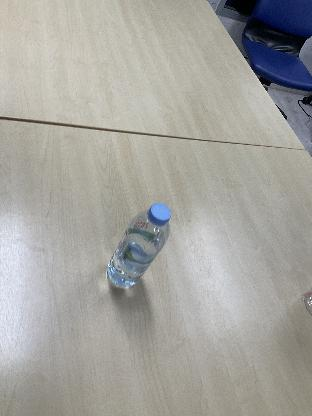Plastic Bottle: (106, 201, 172, 291)
